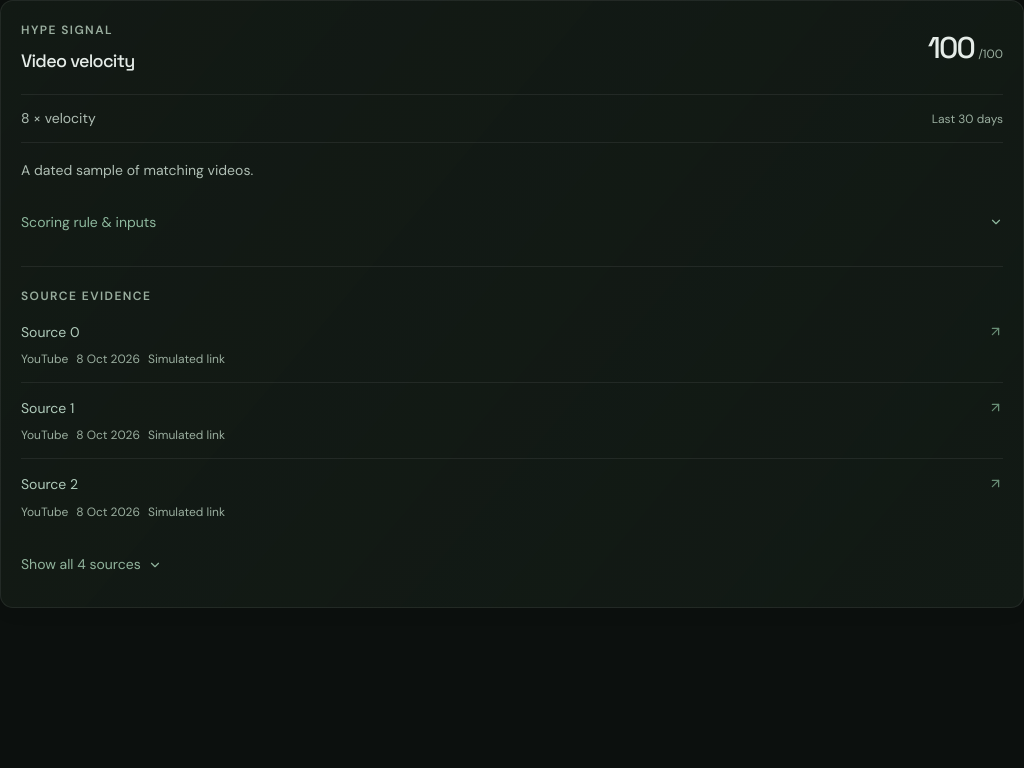
Test: evidence disclosure › opens the full source list and exposes the scoring inputs
Expected: the number of links is 3, [21,321,1003,343]; [21,397,1003,419]; [21,473,1003,496]
What coordinates should you click on to do the following:
click the button "Show all 4 sources"
I would click on:
 (91, 565)
Its box is [21,543,162,587].
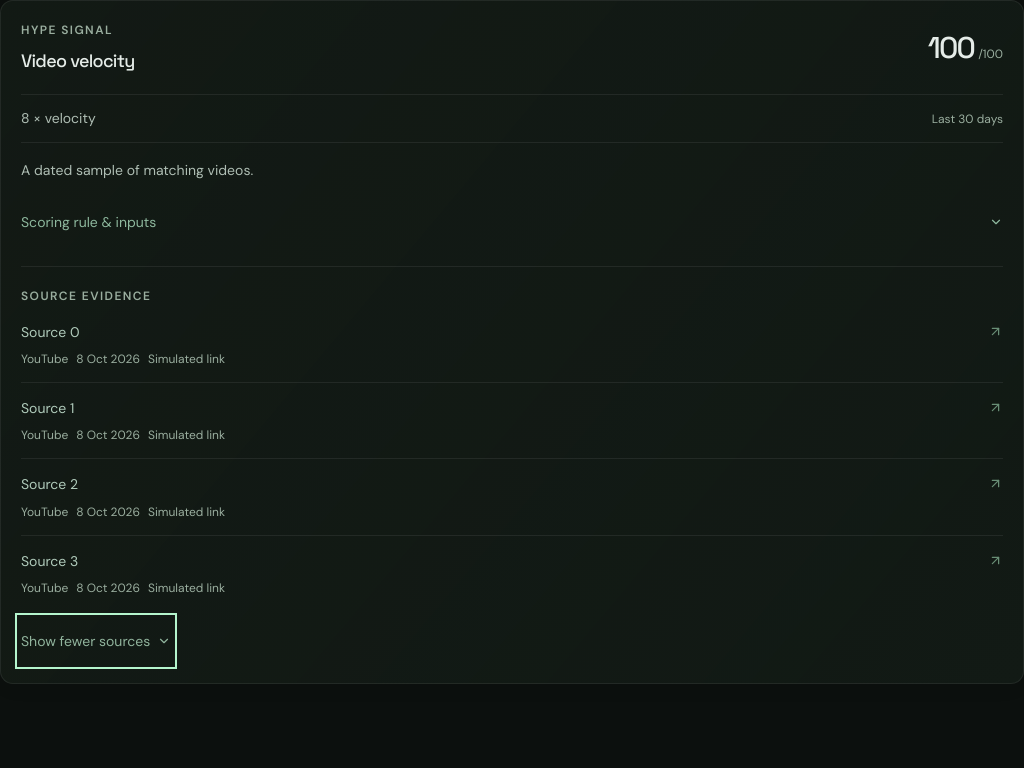
Expected: the number of links is 4, [21,321,1003,343]; [21,397,1003,419]; [21,473,1003,496]; [21,550,1003,572]
What coordinates should you click on to do the following:
click the heading "Scoring rule & inputs"
I would click on:
 (89, 222)
Its box is [21,213,1003,231].
(page scrolled)
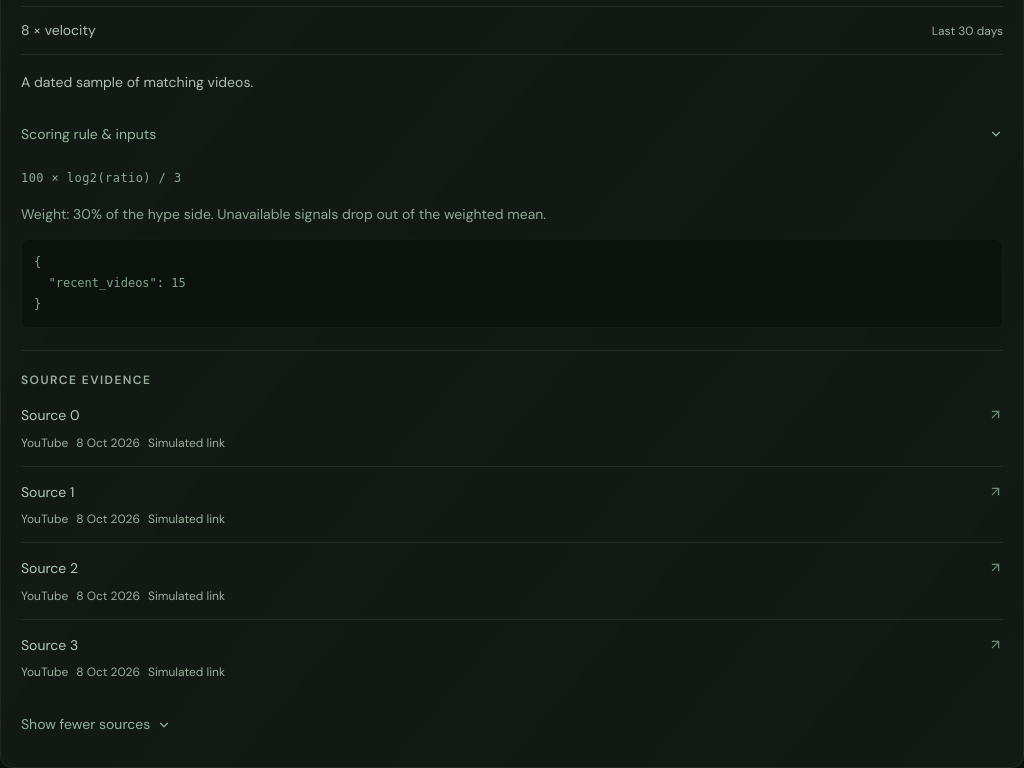
Expected: the text "{ \"recent_videos\": 15 }" is shown, [21,239,1003,328]
What coordinates should you click on to do the following:
click the button "Show fewer sources"
I would click on:
 (96, 725)
Its box is [21,703,171,747].
(page scrolled)
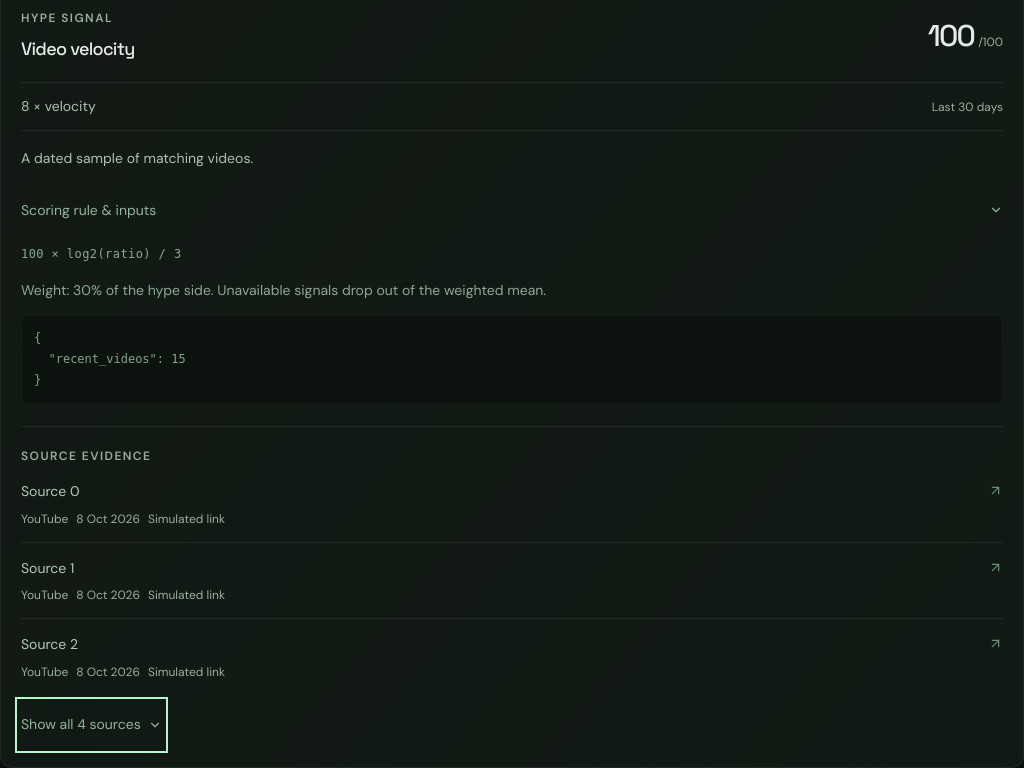
Expected: the number of links is 3, [21,480,1003,503]; [21,557,1003,579]; [21,633,1003,656]
